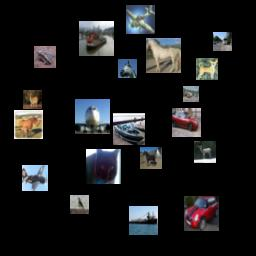airplane: (75, 99, 110, 134), (126, 5, 155, 34), (22, 165, 48, 191)
automobile: (184, 196, 219, 231), (172, 108, 201, 137)
bird: (70, 195, 89, 214)
cat: (86, 149, 121, 184)
deer: (194, 141, 216, 163), (23, 90, 42, 109)
dog: (196, 58, 218, 80)
frog: (34, 46, 56, 68)
ship: (79, 21, 114, 56), (113, 113, 145, 145), (129, 206, 158, 235)
truck: (213, 32, 232, 51), (183, 86, 199, 102)
